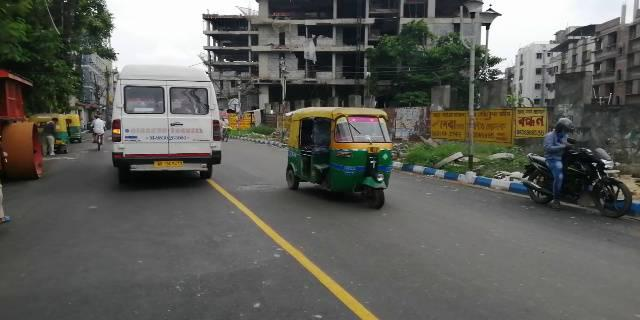Autorickshaw: (279, 104, 402, 210)
Bus: (108, 61, 225, 185)
Cycle: (88, 115, 107, 154)
